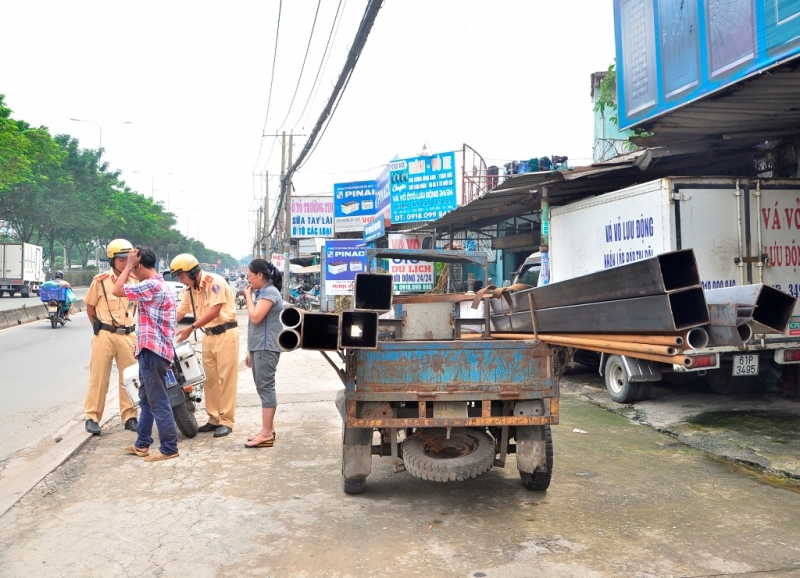police: (166, 253, 244, 434)
